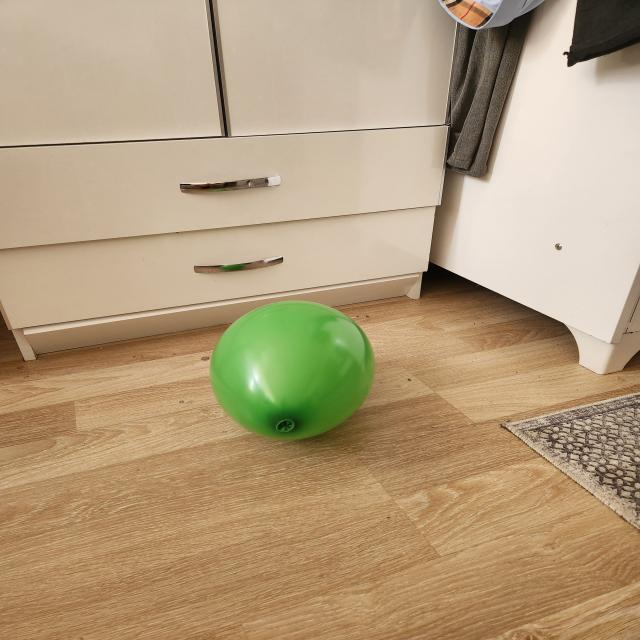green: (211, 302, 377, 443)
